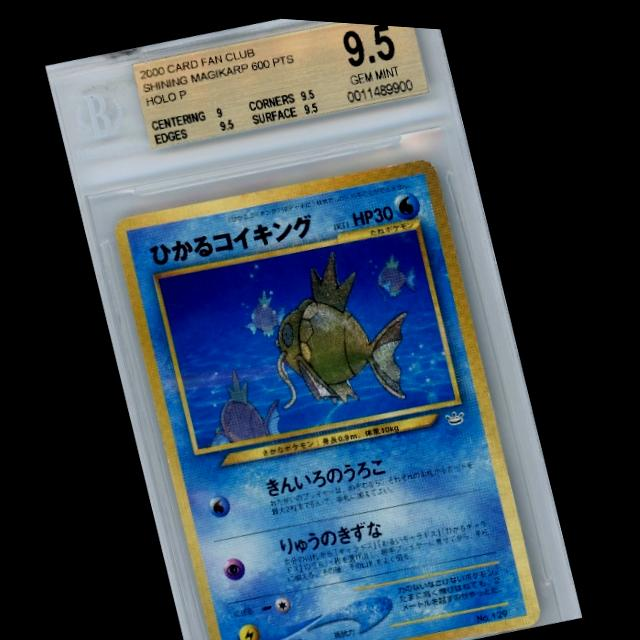bgs_label: (130, 18, 429, 147)
bgs_slab: (44, 15, 585, 640)
card: (112, 153, 546, 640)
